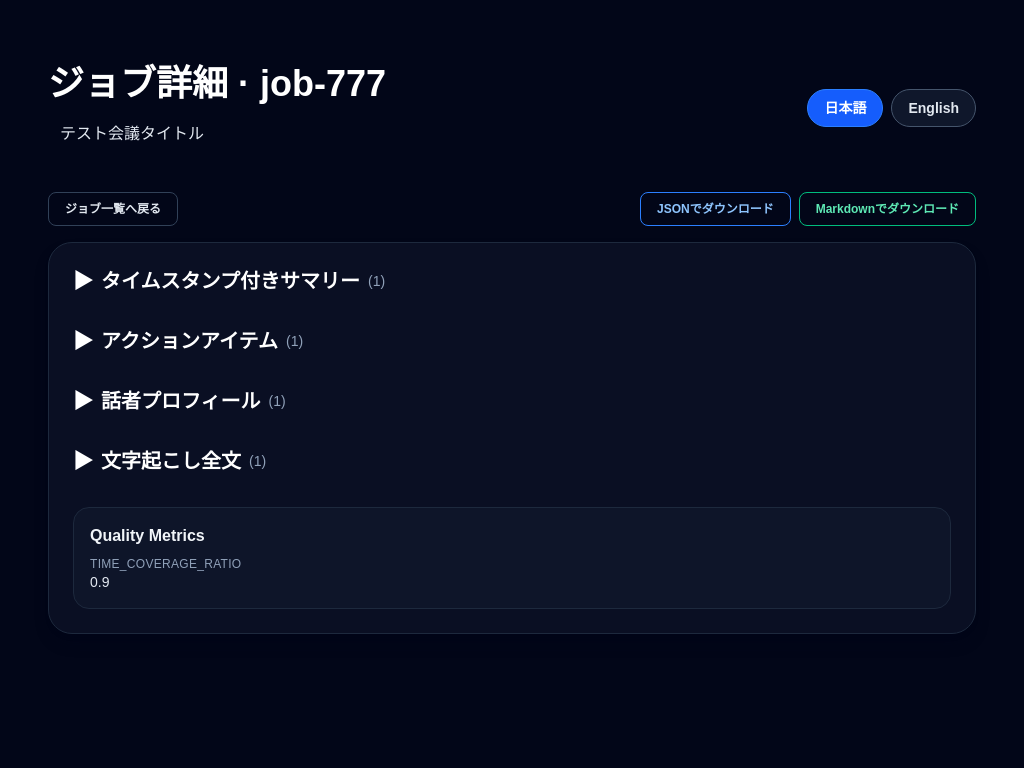
Test: MeetingDetailView › renders meeting data and toggles language
This screenshot has width=1024, height=768.
Expected: the button "JSONでダウンロード" is shown, [640,192,791,226]
Step 1. Click the button "English" → click(934, 108), box [891,89,976,127]
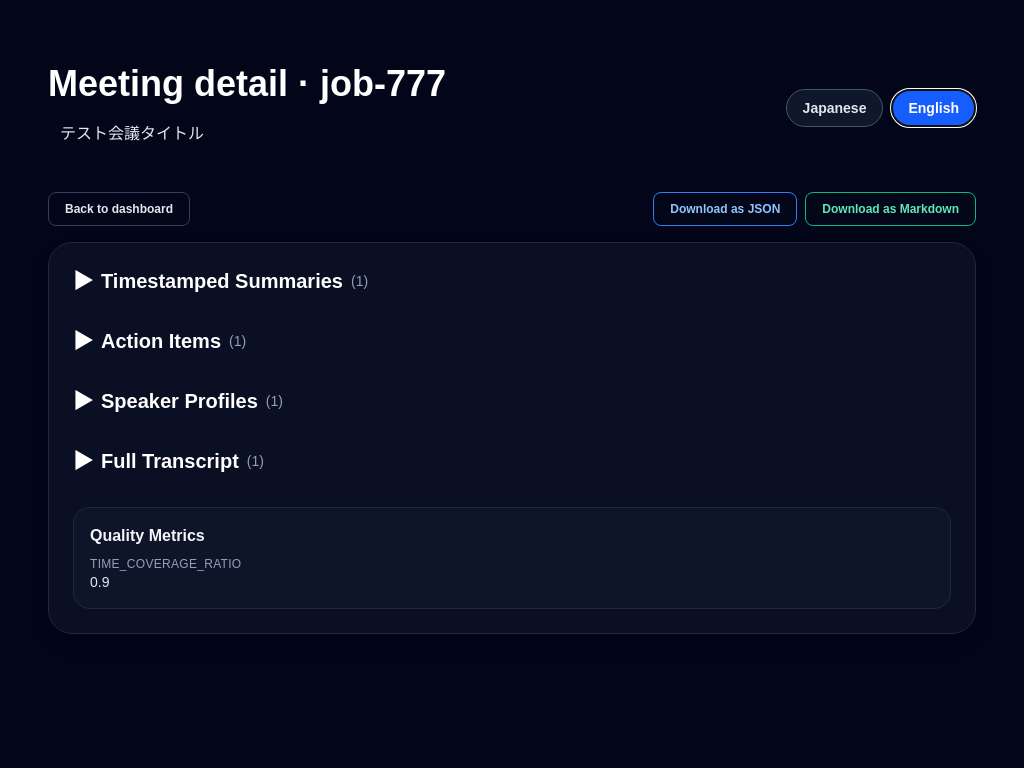
Expected: the heading "Meeting detail · job-777" is shown, [48,64,446,104]
